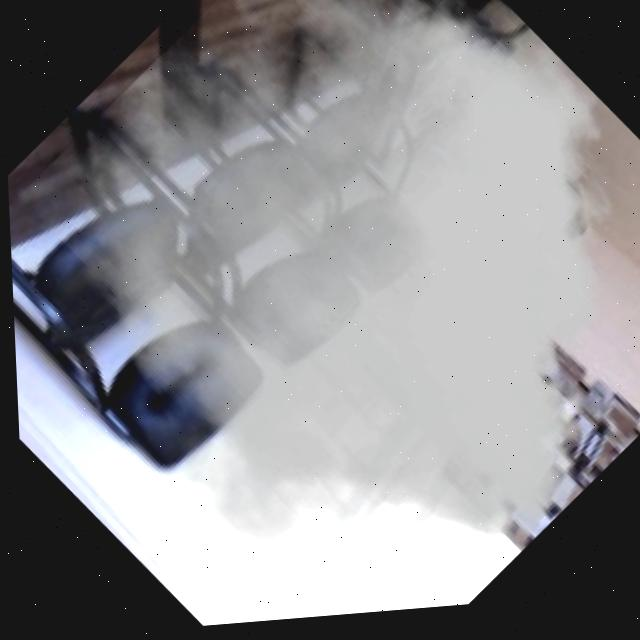Smoke: (7, 0, 640, 624)
